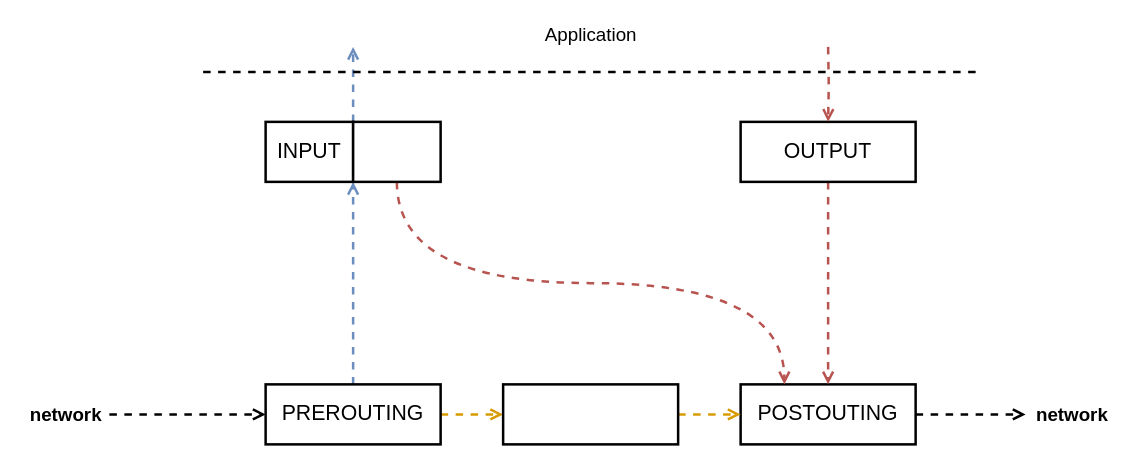
Image size: 1136x466. Some labels were removed from this diagram. Each missing label, with the box of its shape:
FORWARD: (501, 382, 679, 445)
LVS: (351, 120, 441, 182)
